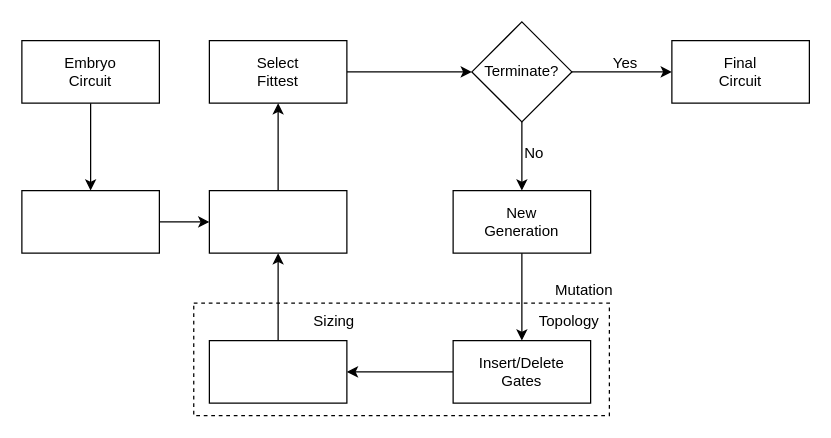
This 831x438 diagram has some shape labels left out. Each missing label, with the centre of its shape:
"Evaluate Circuits" belongs at point 277,221.
"Initial Generation" belongs at point 90,221.
"Rewire" belongs at point 277,371.
